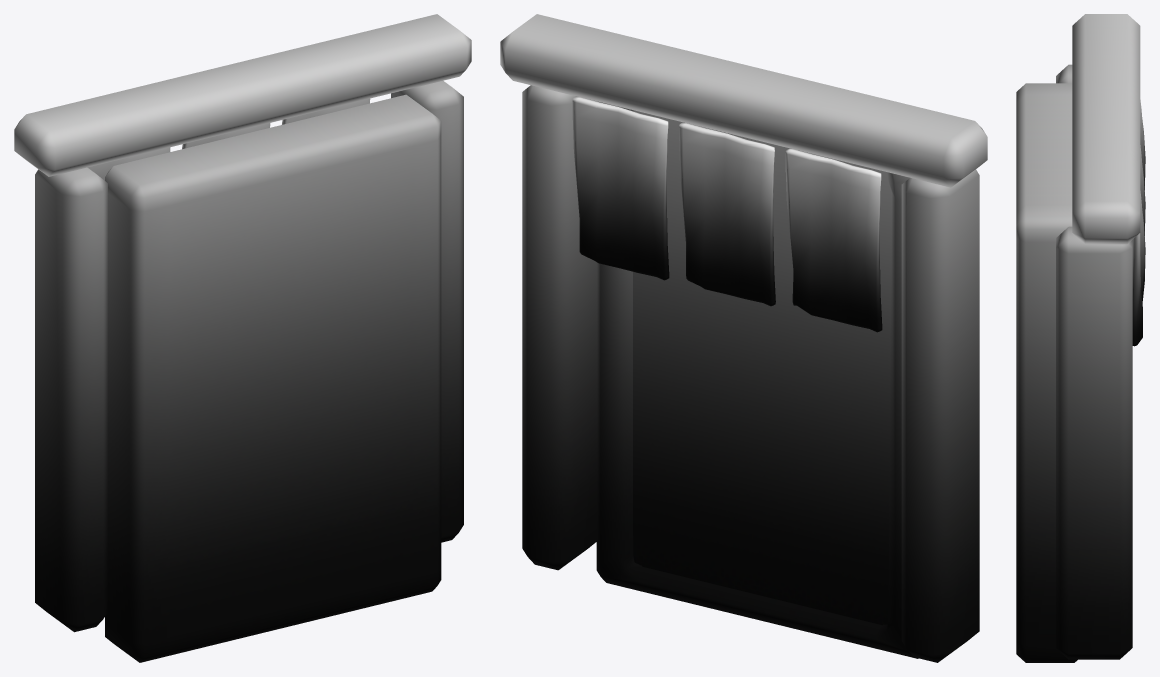
The model's file is SM_Wood_Door_05.fbx.
The picture shows the model from 3 angles, left to right: view 1: azimuth 30°, elevation 25°; view 2: azimuth 150°, elevation 25°; view 3: azimuth 270°, elevation 25°; orthographic projection. The views are drawn at different scales.
Visible parts, largest first — view 1: SM_Wood_Door_05; view 2: SM_Wood_Door_05; view 3: SM_Wood_Door_05.
Part boxes in pixels (x1,y1,x2,y2): SM_Wood_Door_05: [14, 14, 471, 662]; SM_Wood_Door_05: [500, 14, 987, 662]; SM_Wood_Door_05: [1016, 14, 1145, 662].
Bounding box in the file's own units: 0.5318 × 0.6118 × 0.1467.
